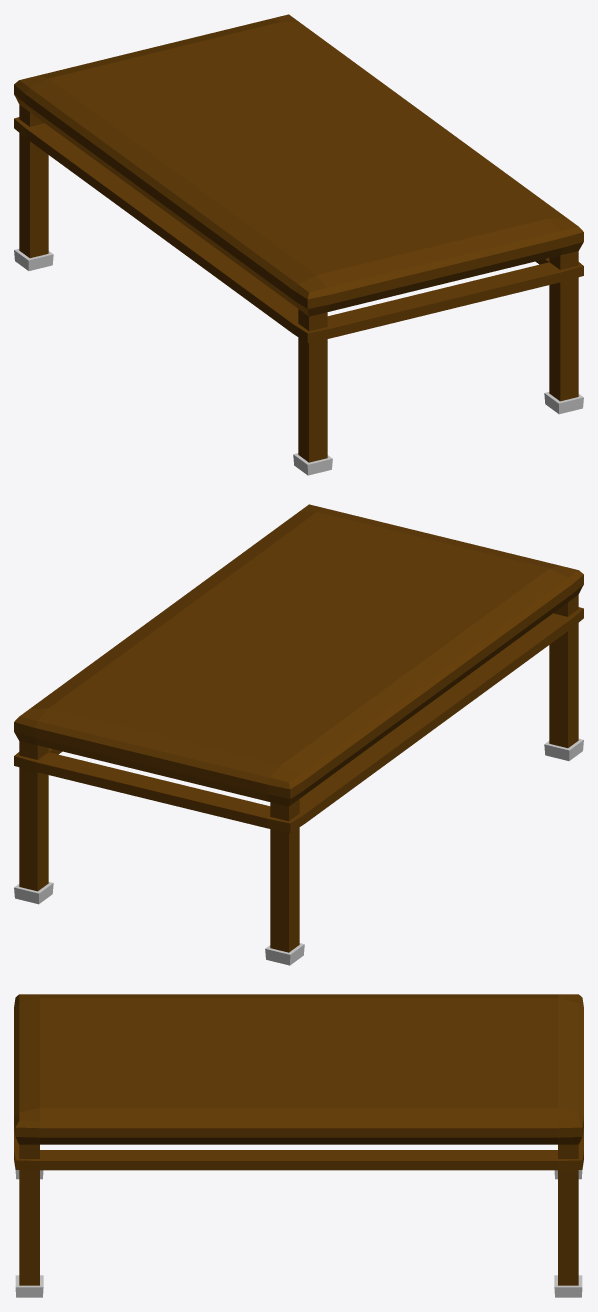
The model's file is table 1.fbx.
3 views of the same model, one above another, from view 1: azimuth 30°, elevation 25°; view 2: azimuth 150°, elevation 25°; view 3: azimuth 270°, elevation 25° (orthographic). The views are drawn at different scales.
Visible parts, largest first — view 1: Cube; view 2: Cube; view 3: Cube.
Part boxes in pixels (box(x1,y1,x2,y2)): Cube: box(14, 14, 583, 475); Cube: box(14, 504, 583, 965); Cube: box(14, 994, 583, 1297).
Size of the model in its own units: 6000 by 3829 by 11000.
